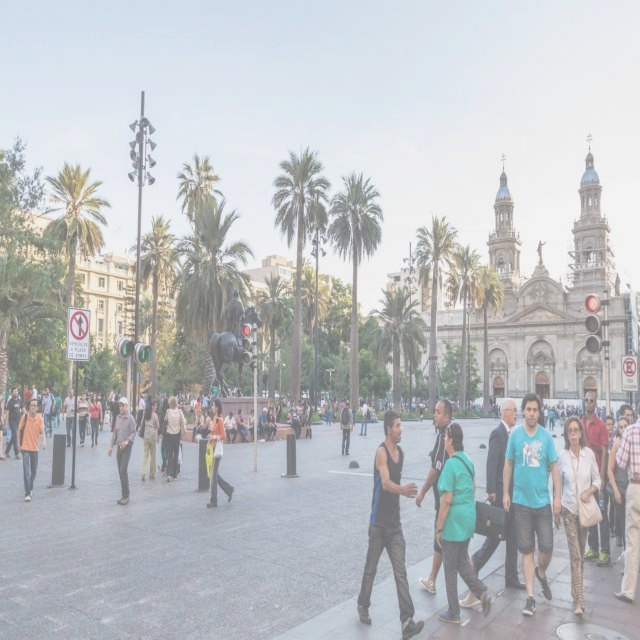pessoa: (351, 406, 426, 640), (501, 391, 564, 618), (415, 400, 482, 608), (432, 419, 493, 626), (471, 398, 528, 591), (556, 414, 602, 618), (578, 389, 612, 568), (612, 400, 640, 604), (606, 414, 630, 576), (610, 402, 634, 548), (203, 397, 234, 509), (15, 398, 48, 502), (107, 396, 138, 506), (160, 396, 188, 484), (138, 398, 160, 481), (4, 386, 28, 460), (602, 414, 616, 538), (539, 398, 586, 431), (4, 386, 23, 452), (450, 398, 502, 422), (222, 286, 245, 339), (85, 392, 104, 449), (156, 397, 170, 472), (40, 385, 58, 438), (61, 387, 76, 449), (338, 399, 354, 456), (77, 392, 90, 448), (235, 407, 250, 444), (208, 377, 222, 413), (258, 407, 272, 443), (190, 408, 204, 443), (224, 410, 238, 445), (358, 399, 371, 436), (594, 405, 622, 422), (109, 394, 121, 431), (266, 407, 278, 442), (98, 392, 108, 432), (201, 392, 213, 425), (534, 237, 548, 265), (290, 408, 302, 440), (136, 394, 146, 432), (200, 409, 212, 439), (54, 392, 63, 428), (175, 390, 190, 410), (432, 399, 440, 434), (305, 400, 312, 439), (400, 401, 420, 414), (176, 443, 183, 478), (190, 394, 198, 424), (194, 396, 202, 426), (248, 408, 255, 442), (36, 388, 46, 411), (325, 398, 333, 426), (301, 400, 309, 427), (155, 392, 162, 421), (24, 386, 32, 411), (378, 400, 394, 412), (614, 272, 622, 296), (228, 387, 244, 397), (316, 404, 325, 421), (276, 399, 282, 424), (244, 393, 272, 398), (290, 399, 298, 415), (518, 404, 526, 420), (144, 394, 152, 409), (332, 400, 337, 424), (351, 406, 357, 426), (418, 402, 424, 422), (632, 404, 638, 424), (269, 399, 276, 416), (31, 384, 38, 400), (287, 408, 294, 424), (370, 408, 377, 424), (339, 399, 346, 414), (300, 397, 313, 405), (296, 398, 302, 414), (434, 395, 450, 401), (84, 388, 91, 401), (422, 400, 429, 412), (551, 432, 565, 438), (332, 398, 336, 417), (300, 405, 304, 424), (282, 396, 288, 408), (272, 408, 276, 426), (320, 396, 326, 407), (88, 390, 93, 402), (359, 397, 364, 407), (370, 400, 376, 408), (323, 399, 328, 406), (286, 400, 290, 408), (366, 396, 369, 406)
